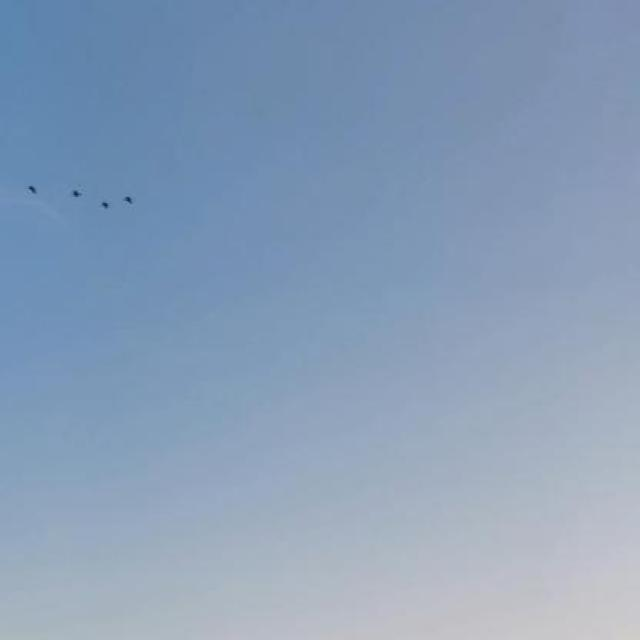bird: (67, 186, 84, 199), (26, 184, 42, 196), (120, 194, 137, 203), (98, 200, 111, 211)
